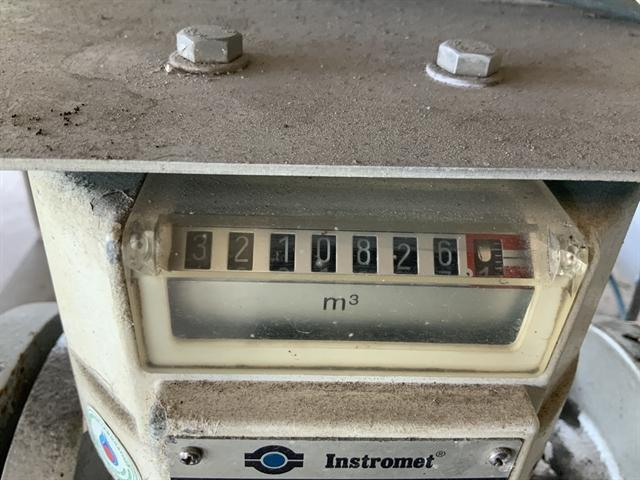analog_dial: (168, 226, 531, 277)
